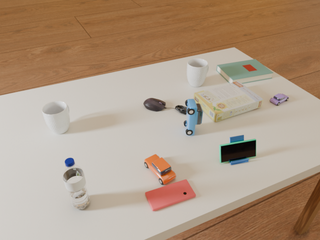book: (217, 59, 273, 84)
bottle: (63, 158, 90, 210)
box: (194, 81, 263, 122)
cup: (42, 101, 70, 134), (187, 59, 209, 87)
mouse: (144, 98, 166, 111)
phone: (145, 179, 196, 211), (219, 139, 256, 163)
toy_car: (144, 154, 176, 185), (184, 98, 203, 135), (270, 94, 289, 105)
